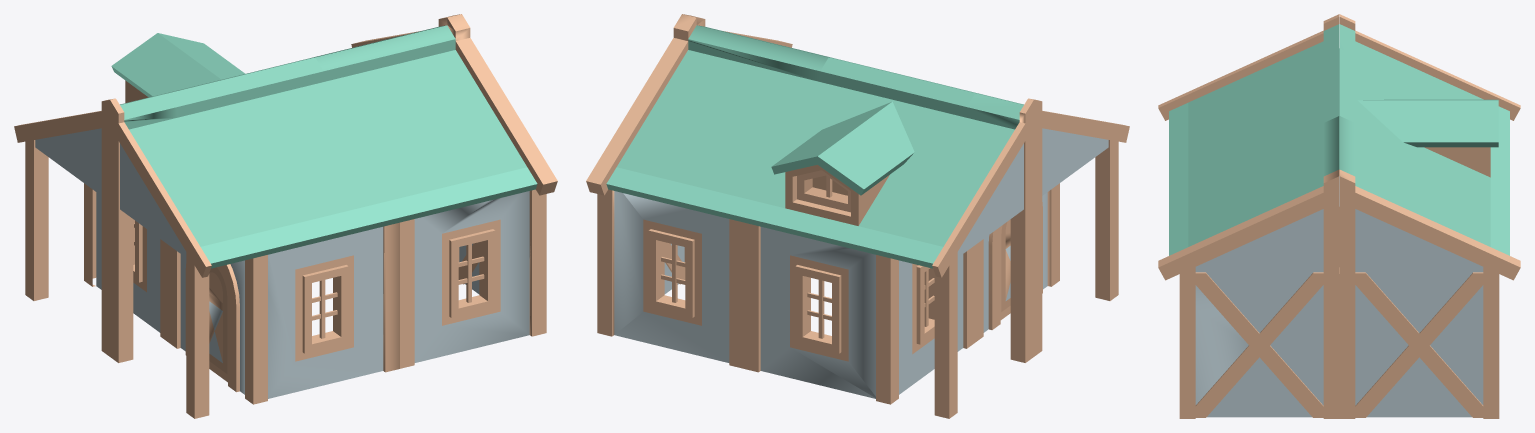
Rendered from BasicHouse1.fbx.
3 views of the same model, side by side, from view 1: azimuth 30°, elevation 25°; view 2: azimuth 150°, elevation 25°; view 3: azimuth 270°, elevation 25° (orthographic). The views are drawn at different scales.
Parts seen in each view (by area): view 1: roofWindow.001; view 2: roofWindow.001; view 3: roofWindow.001.
Boxes of the visible parts, x1,y1,x2,y2 form: roofWindow.001: (14, 14, 557, 418); roofWindow.001: (586, 14, 1129, 418); roofWindow.001: (1158, 14, 1520, 418).
Size of the model in its own units: 240 by 168 by 227.
